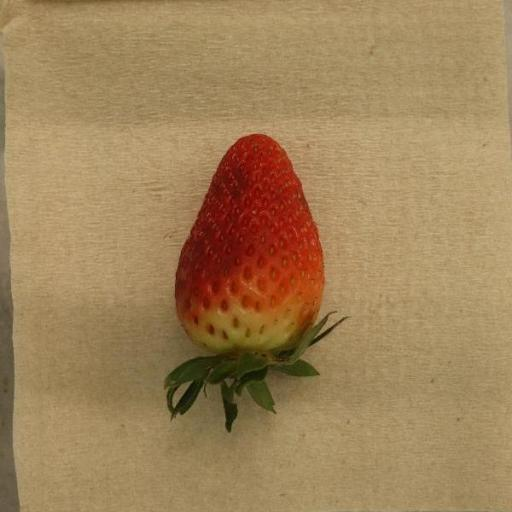Strawberry: (163, 134, 347, 434)
